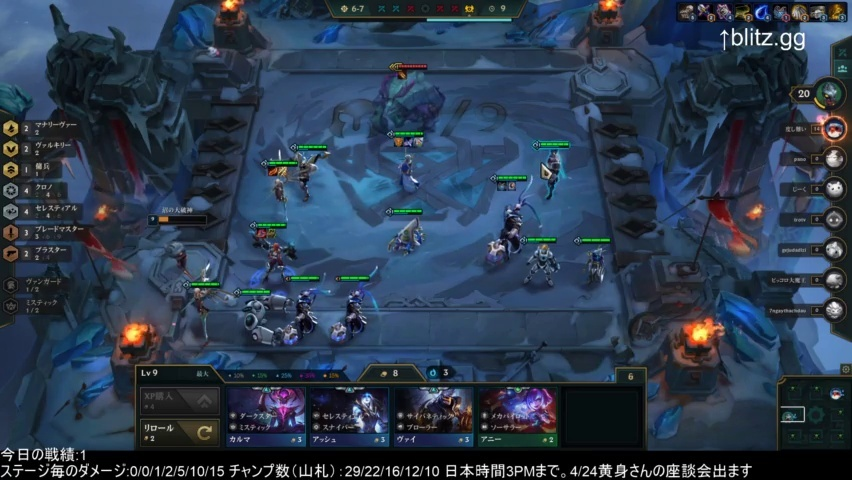blitzcrank*2: (232, 290, 281, 348)
ezreal*2: (515, 232, 565, 293)
kassadin*2: solari,ionicspark,redemption: (384, 128, 435, 199)
kayle*2: (180, 278, 229, 343)
kayle*2: guinsoo,shiv: (260, 158, 296, 216)
lulu*2: (383, 204, 425, 262)
missfortune*2: deathcap, warmog: (249, 218, 299, 295)
shen*2: (529, 135, 583, 204)
thresh: (329, 271, 386, 341), (277, 271, 327, 349)
thresh*2: vest,celestial: (484, 170, 541, 261)
wukong*2: (287, 139, 331, 209)
xayah*2: (575, 234, 617, 285)
